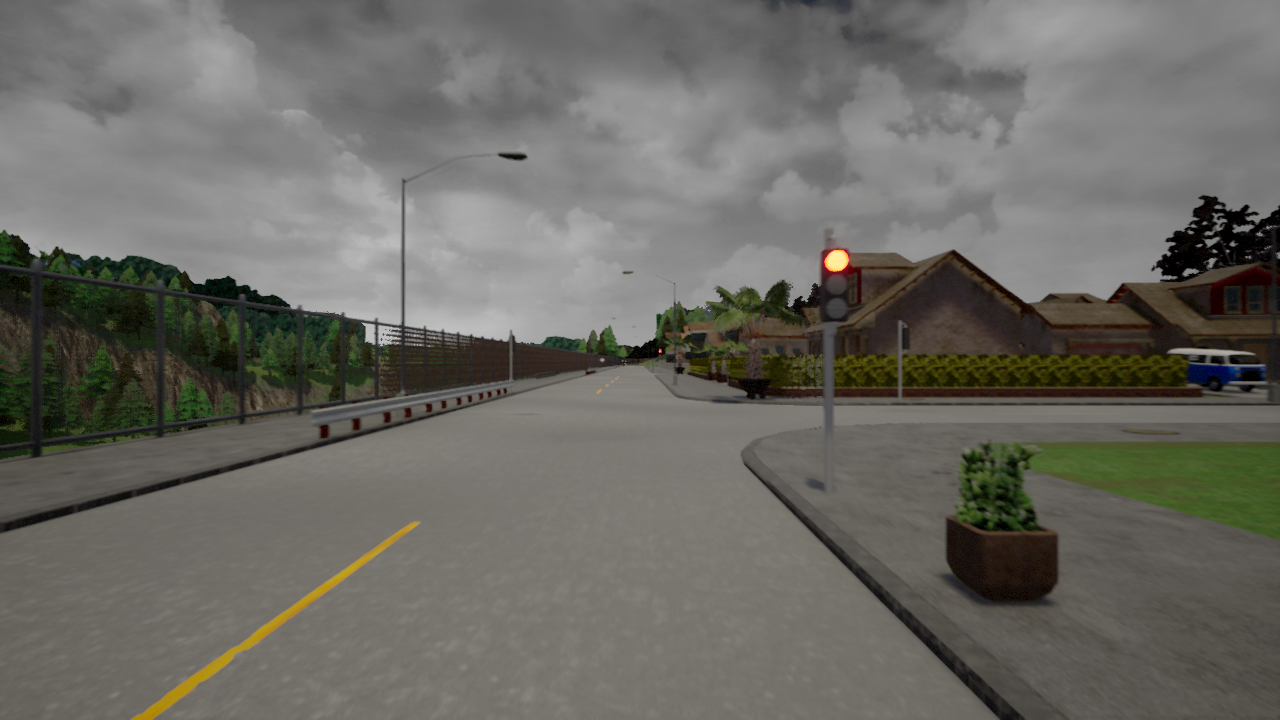red: (821, 244, 852, 326)
